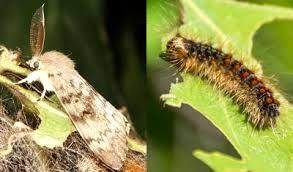Caterpillar: (161, 31, 283, 131)
